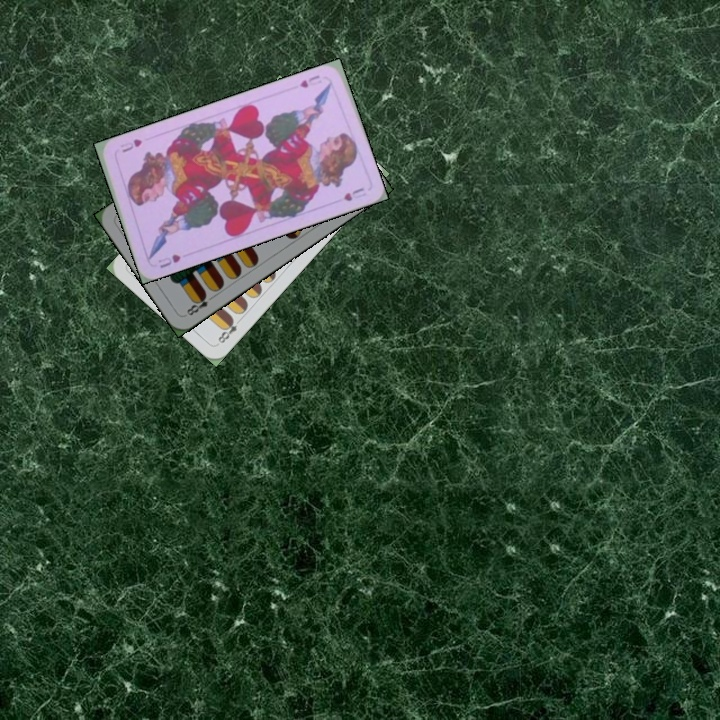E8: (213, 314, 245, 347), (182, 289, 217, 318)
HU: (154, 250, 183, 270), (296, 71, 322, 91)
